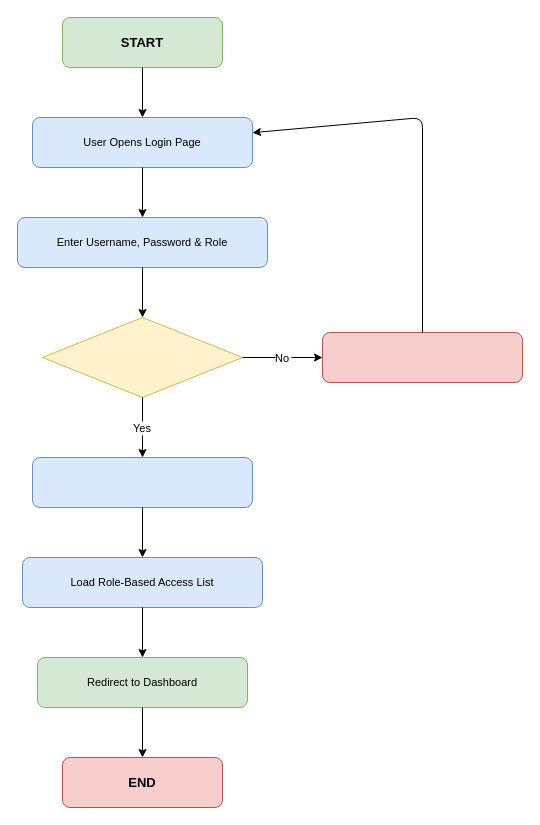
Some shapes in this 540 by 825 pixel diagram are drawn without their labels. The shapes that lost their labels are listed below. From the top down, each one's box as (x1, y1, x2, y2) in pixels, then its label:
(42, 316, 242, 398): Credentials Valid?
(322, 332, 522, 382): Show Error Flash Message
(32, 456, 252, 508): Create Session (user, role)
